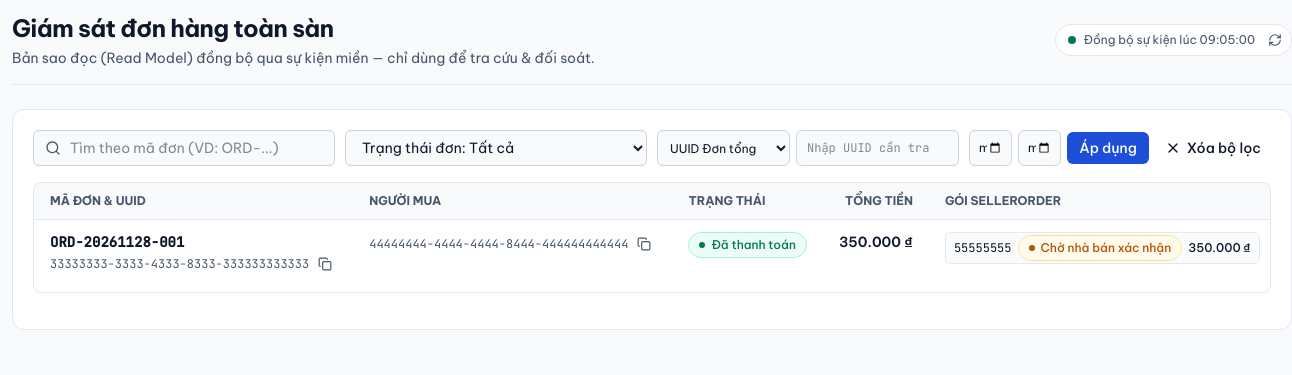
Test: admin-reports feature pages (T1-11) › AdminOrdersPage & AdminTransactionsPage render rows and validate UUID inputs
Check: the text "ORD-20261128-001" is shown, box [50,233,184,251]
Check: the text "350.000 ₫" is shown, box [823,220,929,292]
Type "not-a-uuid" into the search field labelled "Nhập UUID cần tra cứu...".
click(878, 148); type("not-a-uuid")  # box [796,130,959,166]
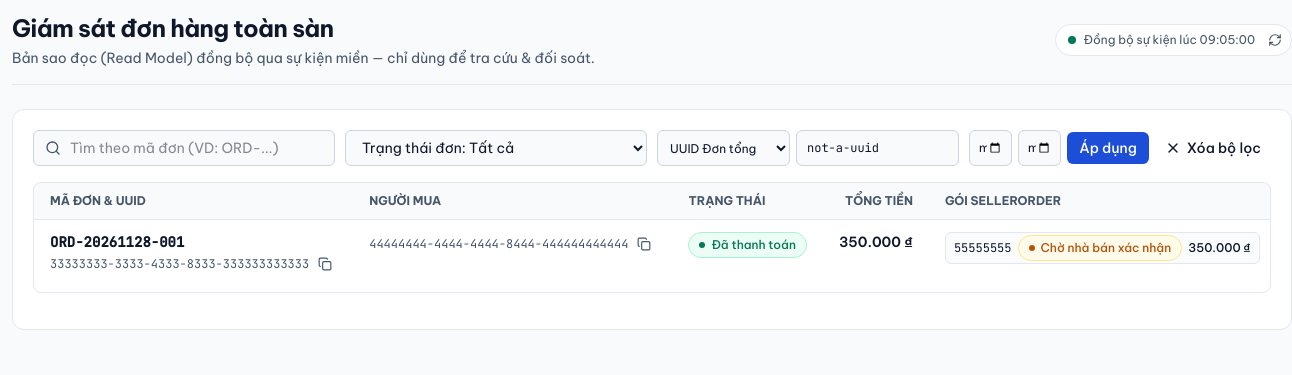
Click the button "Áp dụng".
click(1108, 148)  # box [1067,132,1149,164]
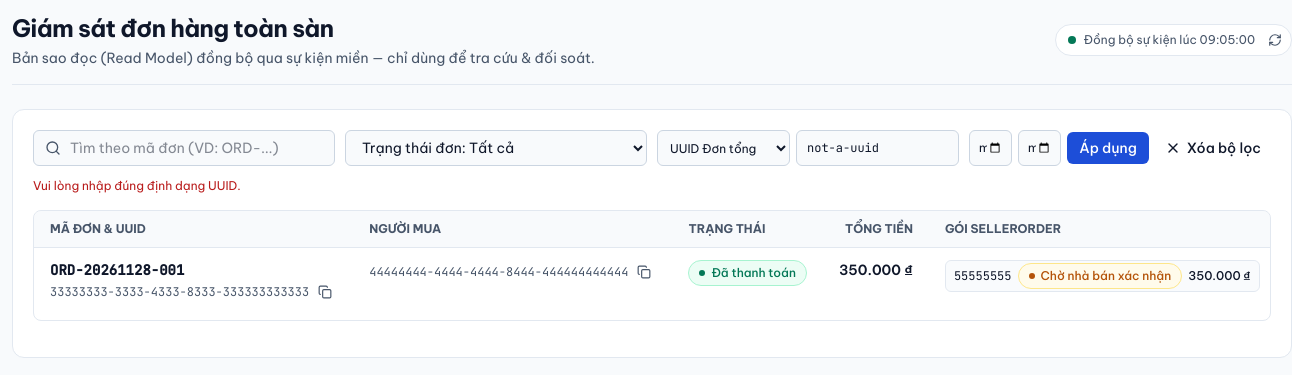
Check: the text "Vui lòng nhập đúng định dạng UUID." is shown, box [33,178,241,193]
